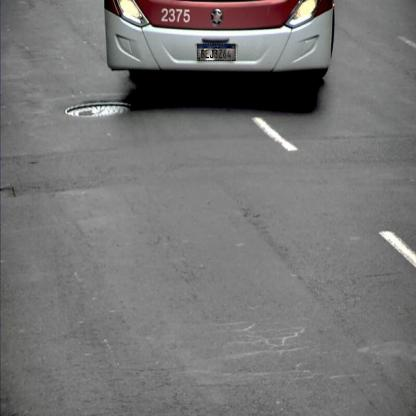PlacaM: (197, 44, 236, 61)
